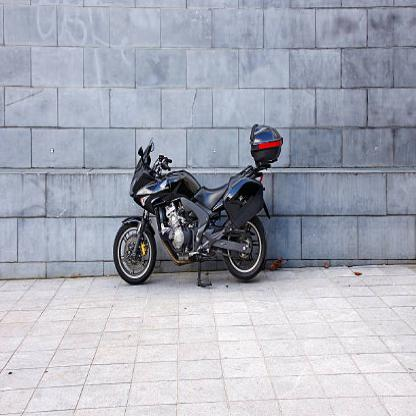Motorcycle: (111, 121, 282, 293)
